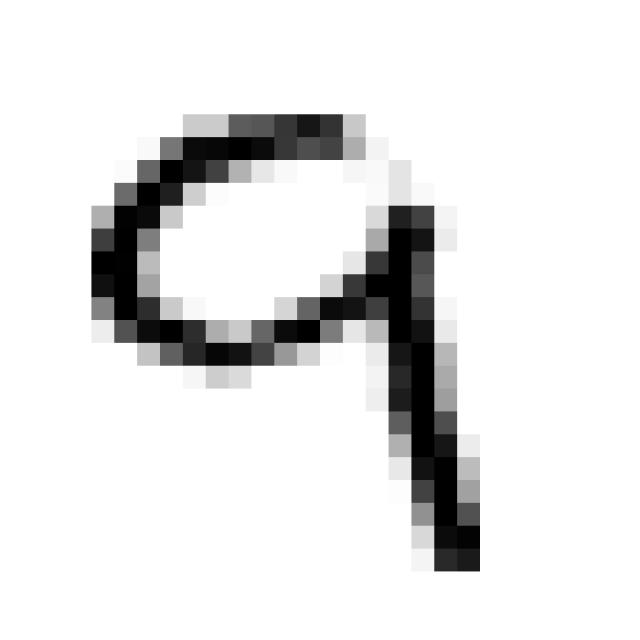9 -nine-: (69, 91, 493, 586)
